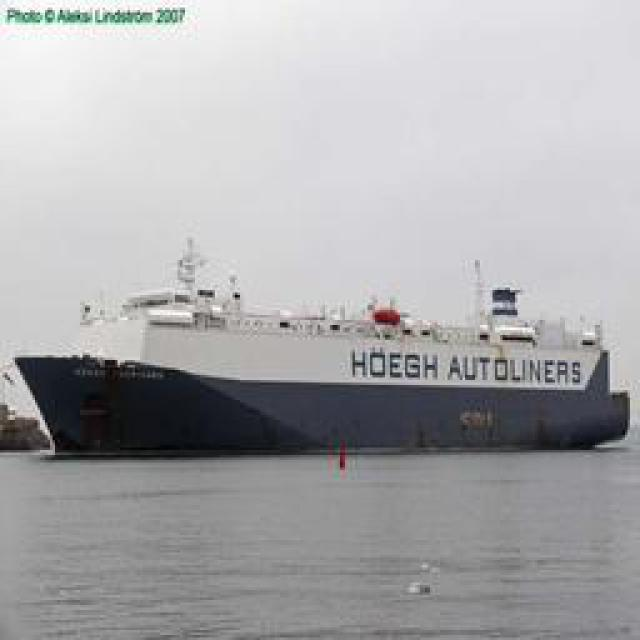Ship: (10, 275, 630, 458)
